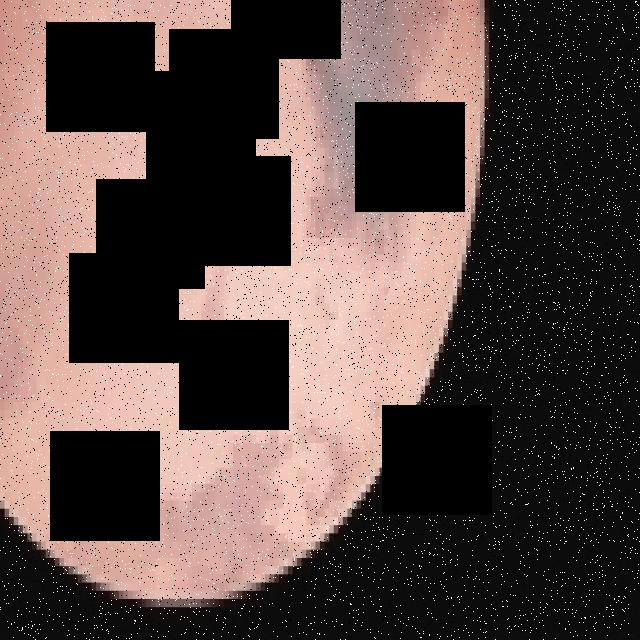Mars: (0, 0, 489, 607)
